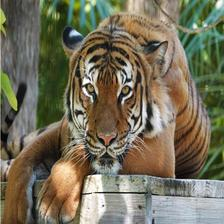tiger: (0, 15, 208, 219)
